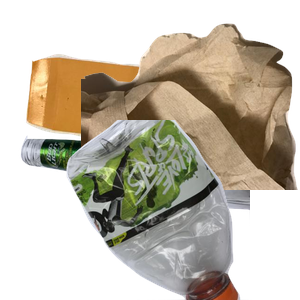glass: (18, 124, 258, 300)
paper: (23, 51, 206, 189)
plastic: (64, 120, 300, 300)
trash: (81, 21, 300, 201)
